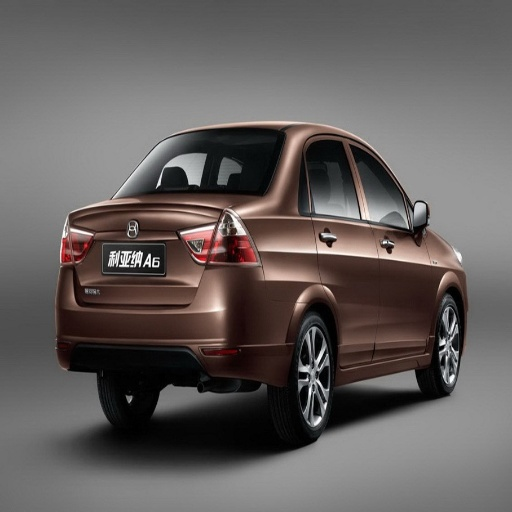back_bumper: (56, 263, 300, 380)
back_right_door: (301, 132, 378, 366)
tailgate: (68, 193, 220, 276)
trunk: (74, 240, 210, 306)
